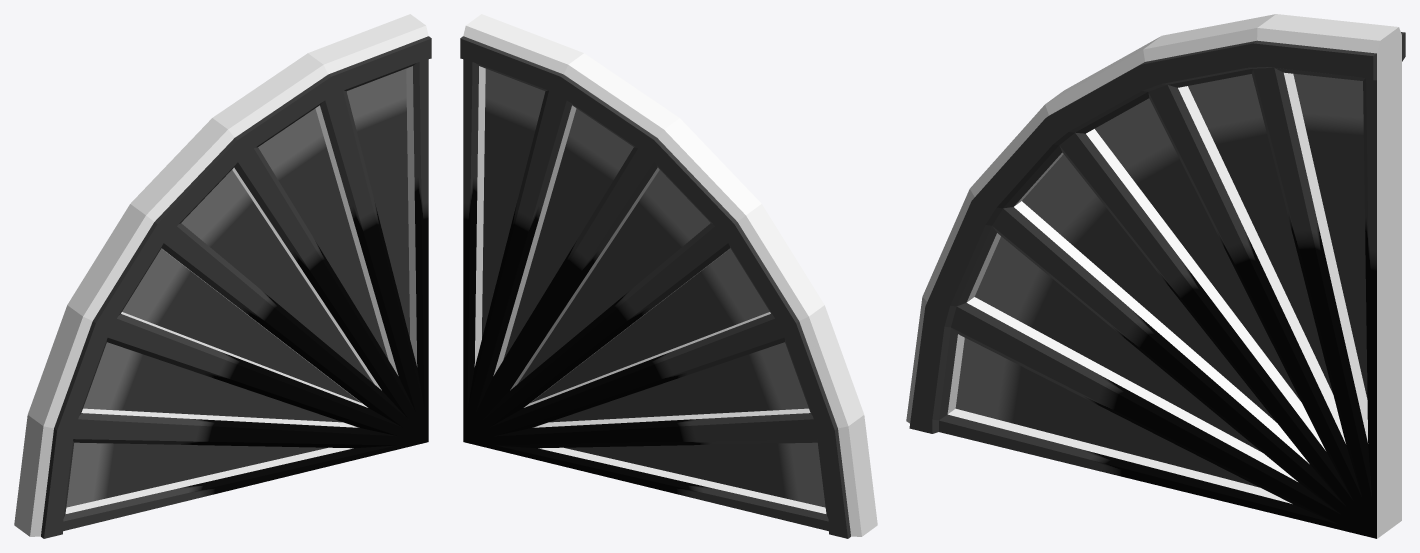
File: SM_Prop_Casino_Sign_Decor_01.fbx
The picture shows the model from 3 angles, left to right: view 1: azimuth 30°, elevation 25°; view 2: azimuth 150°, elevation 25°; view 3: azimuth 330°, elevation 25°; orthographic projection. The views are drawn at different scales.
Parts seen in each view (by area): view 1: SM_Prop_Casino_Sign_Decor_01; view 2: SM_Prop_Casino_Sign_Decor_01; view 3: SM_Prop_Casino_Sign_Decor_01.
Boxes of the visible parts, x1,y1,x2,y2 form: SM_Prop_Casino_Sign_Decor_01: (14, 14, 431, 538); SM_Prop_Casino_Sign_Decor_01: (460, 14, 877, 538); SM_Prop_Casino_Sign_Decor_01: (906, 14, 1405, 538).
Bounding box in the file's own units: 347 × 347 × 40.97.
